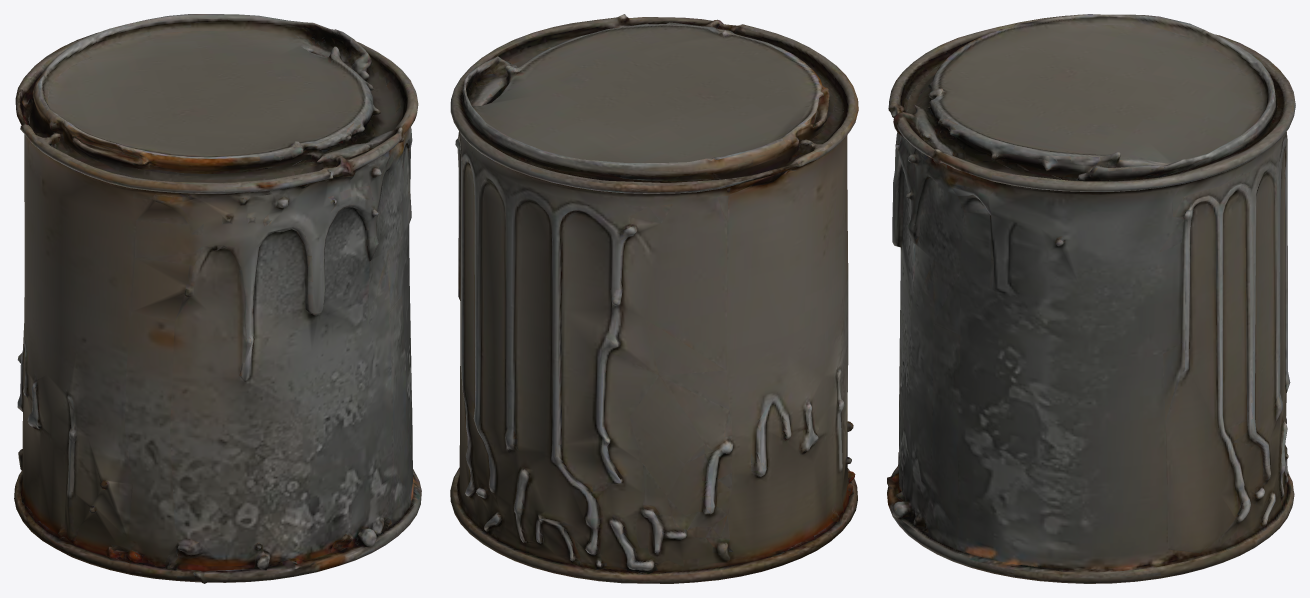
The model's file is prop_paint_can.glb.
3 renders of one model, left to right at view 1: azimuth 30°, elevation 25°; view 2: azimuth 150°, elevation 25°; view 3: azimuth 270°, elevation 25°, orthographic.
Parts seen in each view (by area): view 1: tripo_node_cbd1556d-849b-4c4f-91f6-fc9cc0e8791f; view 2: tripo_node_cbd1556d-849b-4c4f-91f6-fc9cc0e8791f; view 3: tripo_node_cbd1556d-849b-4c4f-91f6-fc9cc0e8791f.
Boxes of the visible parts, x1,y1,x2,y2 form: tripo_node_cbd1556d-849b-4c4f-91f6-fc9cc0e8791f: [14, 14, 421, 583]; tripo_node_cbd1556d-849b-4c4f-91f6-fc9cc0e8791f: [450, 14, 858, 583]; tripo_node_cbd1556d-849b-4c4f-91f6-fc9cc0e8791f: [887, 14, 1295, 583].
Bounding box in the file's own units: 0.2241 × 0.25 × 0.2241.
Materials: 1 (1 with a texture image).
